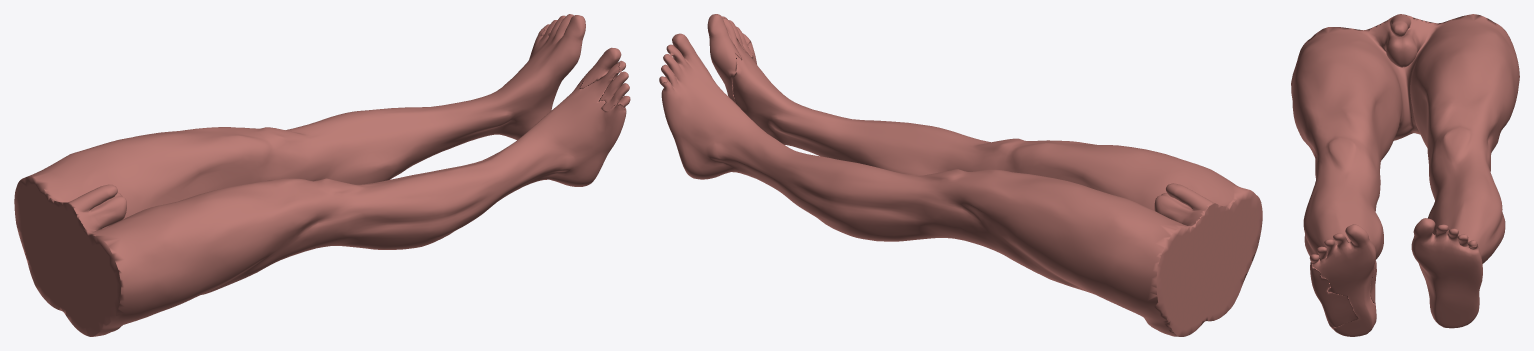
The model's file is LowerBody.obj.
3 views of the same model, side by side, from view 1: azimuth 30°, elevation 25°; view 2: azimuth 150°, elevation 25°; view 3: azimuth 270°, elevation 25° (orthographic).
Visible parts, largest first — view 1: LowerBody; view 2: LowerBody; view 3: LowerBody.
Part boxes in pixels (<box>): LowerBody: <box>14,14,630,336</box>; LowerBody: <box>659,14,1262,336</box>; LowerBody: <box>1291,14,1519,336</box>.
Size of the model in its own units: 42.15 by 13.23 by 15.66.
